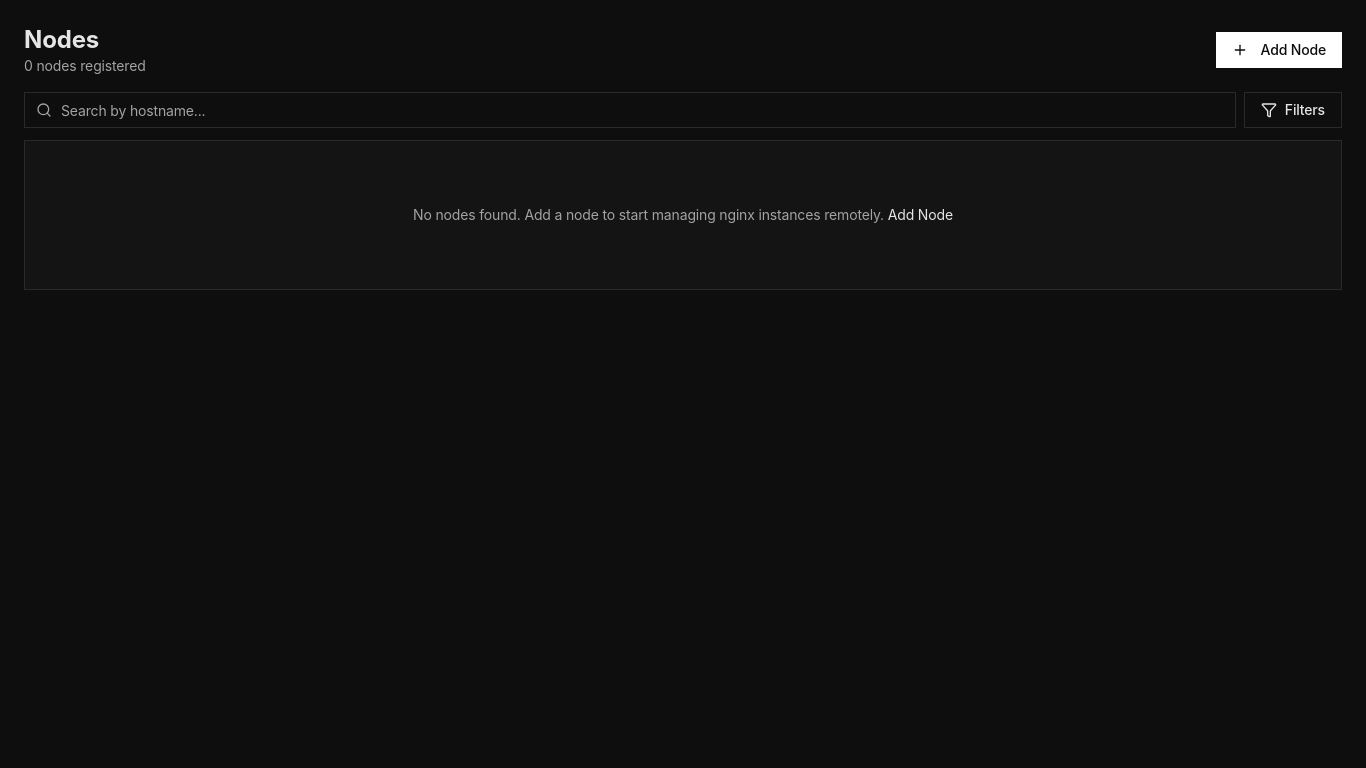
AdminNodes › creates a node and shows the enrollment token and setup command
Click the button "Add Node" in the row of "registered" at (1279, 50), box [1216,32,1342,68]
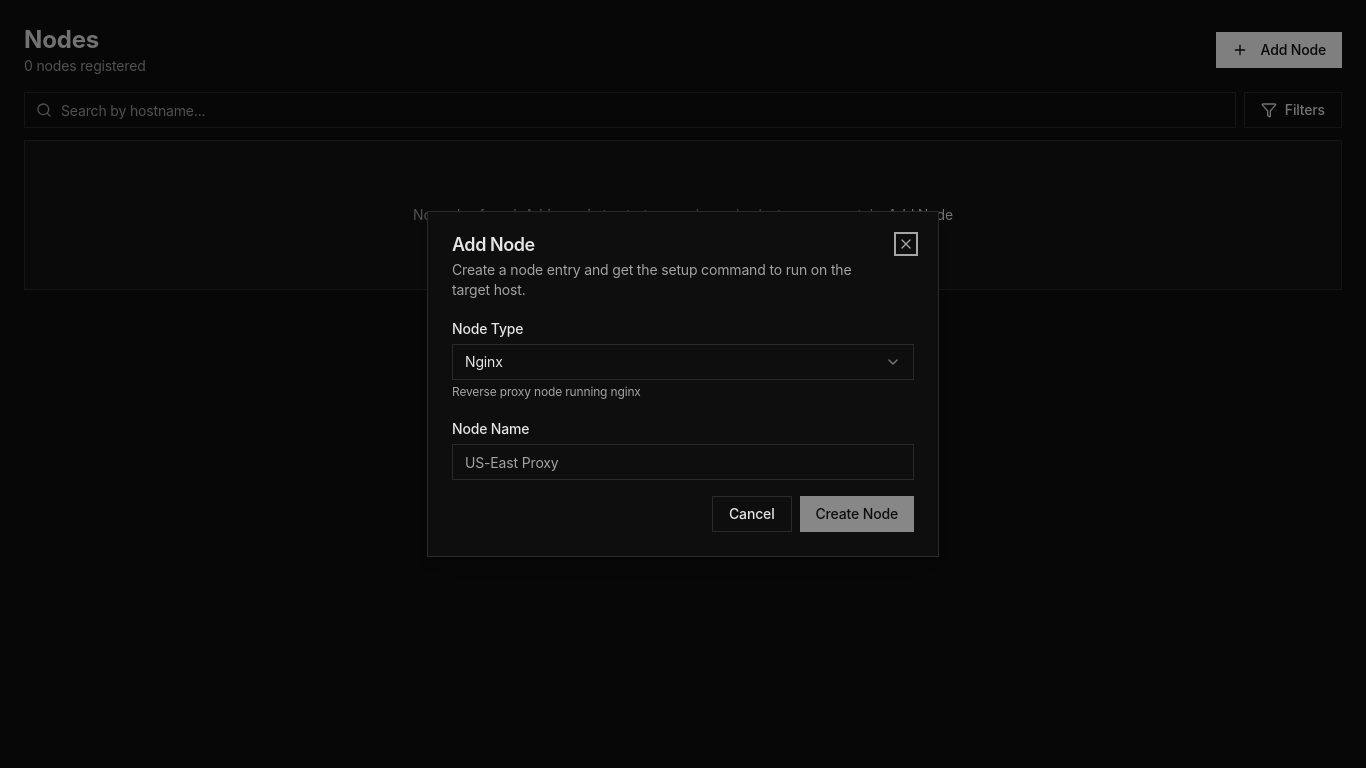
Type "Branch Edge" into the field with placeholder "US-East Proxy" at (683, 462), box [452,444,914,480]
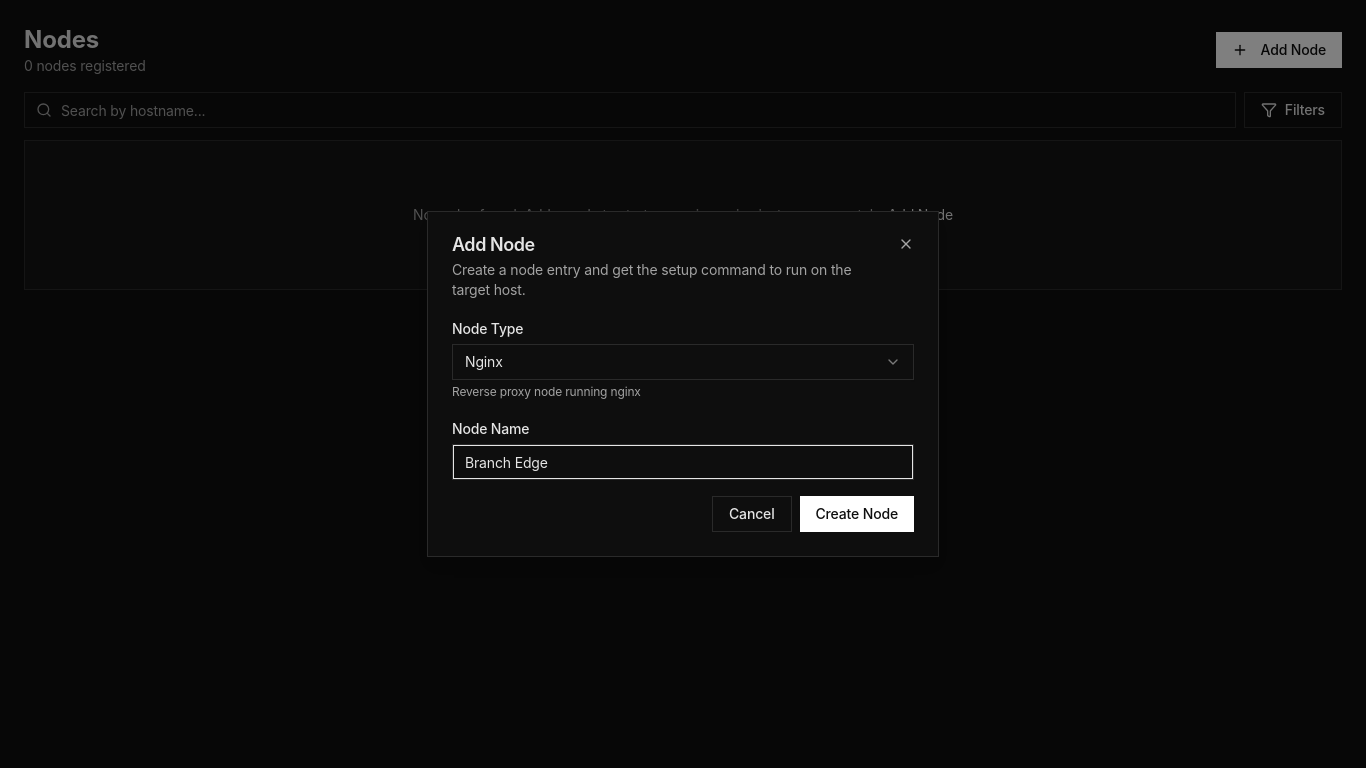
Click the button "Create Node" at (857, 514), box [800,496,914,532]
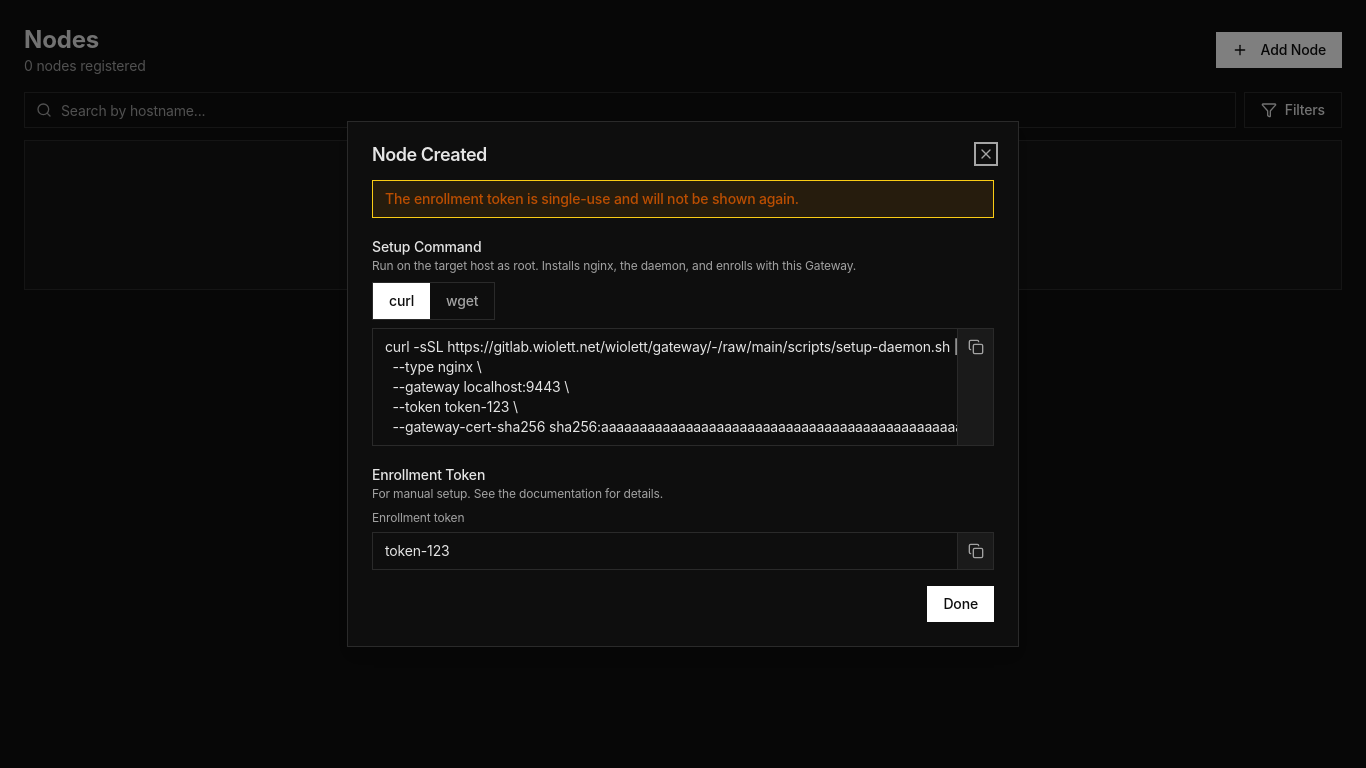
Now the heading "Node Created" is shown, box [372,144,487,165]
Now the text "single-use" is shown, box [385,190,799,207]
Now the text "token-123" is shown, box [385,541,450,561]
